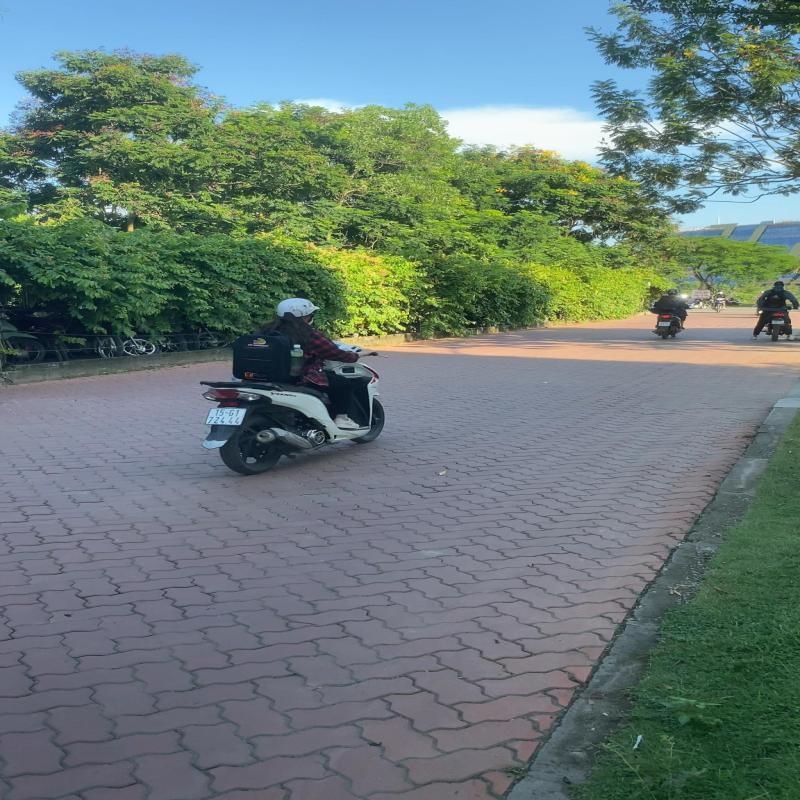helmet: (274, 297, 320, 318), (668, 288, 678, 296), (774, 281, 784, 289)
licenseplate: (202, 407, 248, 427), (771, 320, 785, 324), (657, 322, 670, 326)
motorcyclist: (189, 296, 390, 476), (750, 280, 800, 342), (646, 288, 693, 340)
